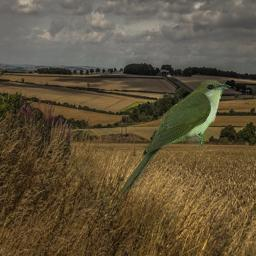Cuckoo: (119, 80, 231, 197)
